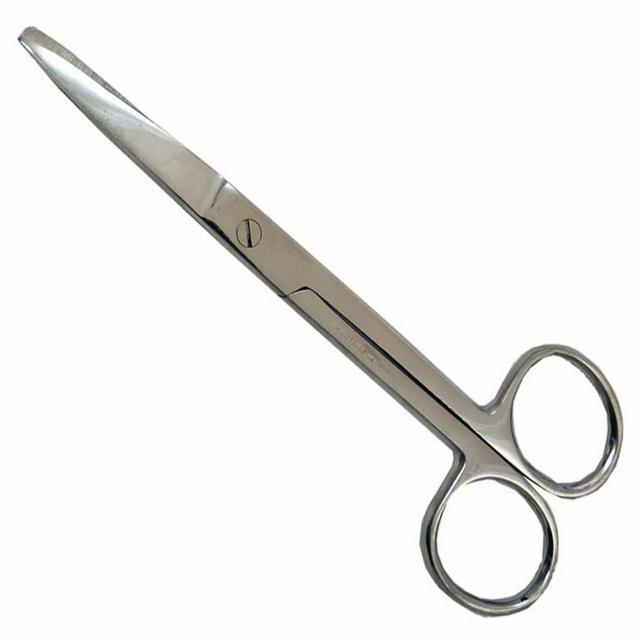scissors: (16, 24, 626, 617)
